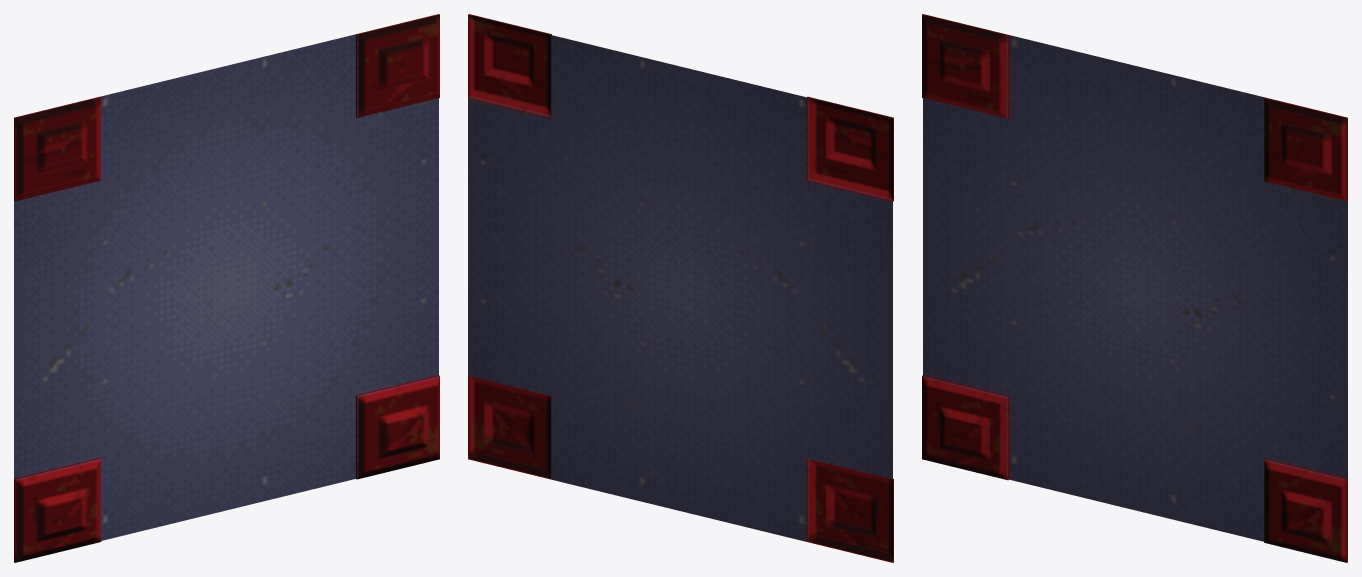
The model's file is sci1_5.fbx.
3 views of the same model, side by side, from view 1: azimuth 30°, elevation 25°; view 2: azimuth 150°, elevation 25°; view 3: azimuth 330°, elevation 25° (orthographic).
Parts seen in each view (by area): view 1: sci1_5_mesh; view 2: sci1_5_mesh; view 3: sci1_5_mesh.
Part boxes in pixels (<box>): sci1_5_mesh: <box>14,14,439,562</box>; sci1_5_mesh: <box>468,14,893,562</box>; sci1_5_mesh: <box>922,14,1347,562</box>.
Bounding box in the file's own units: 256 × 256 × 5.
